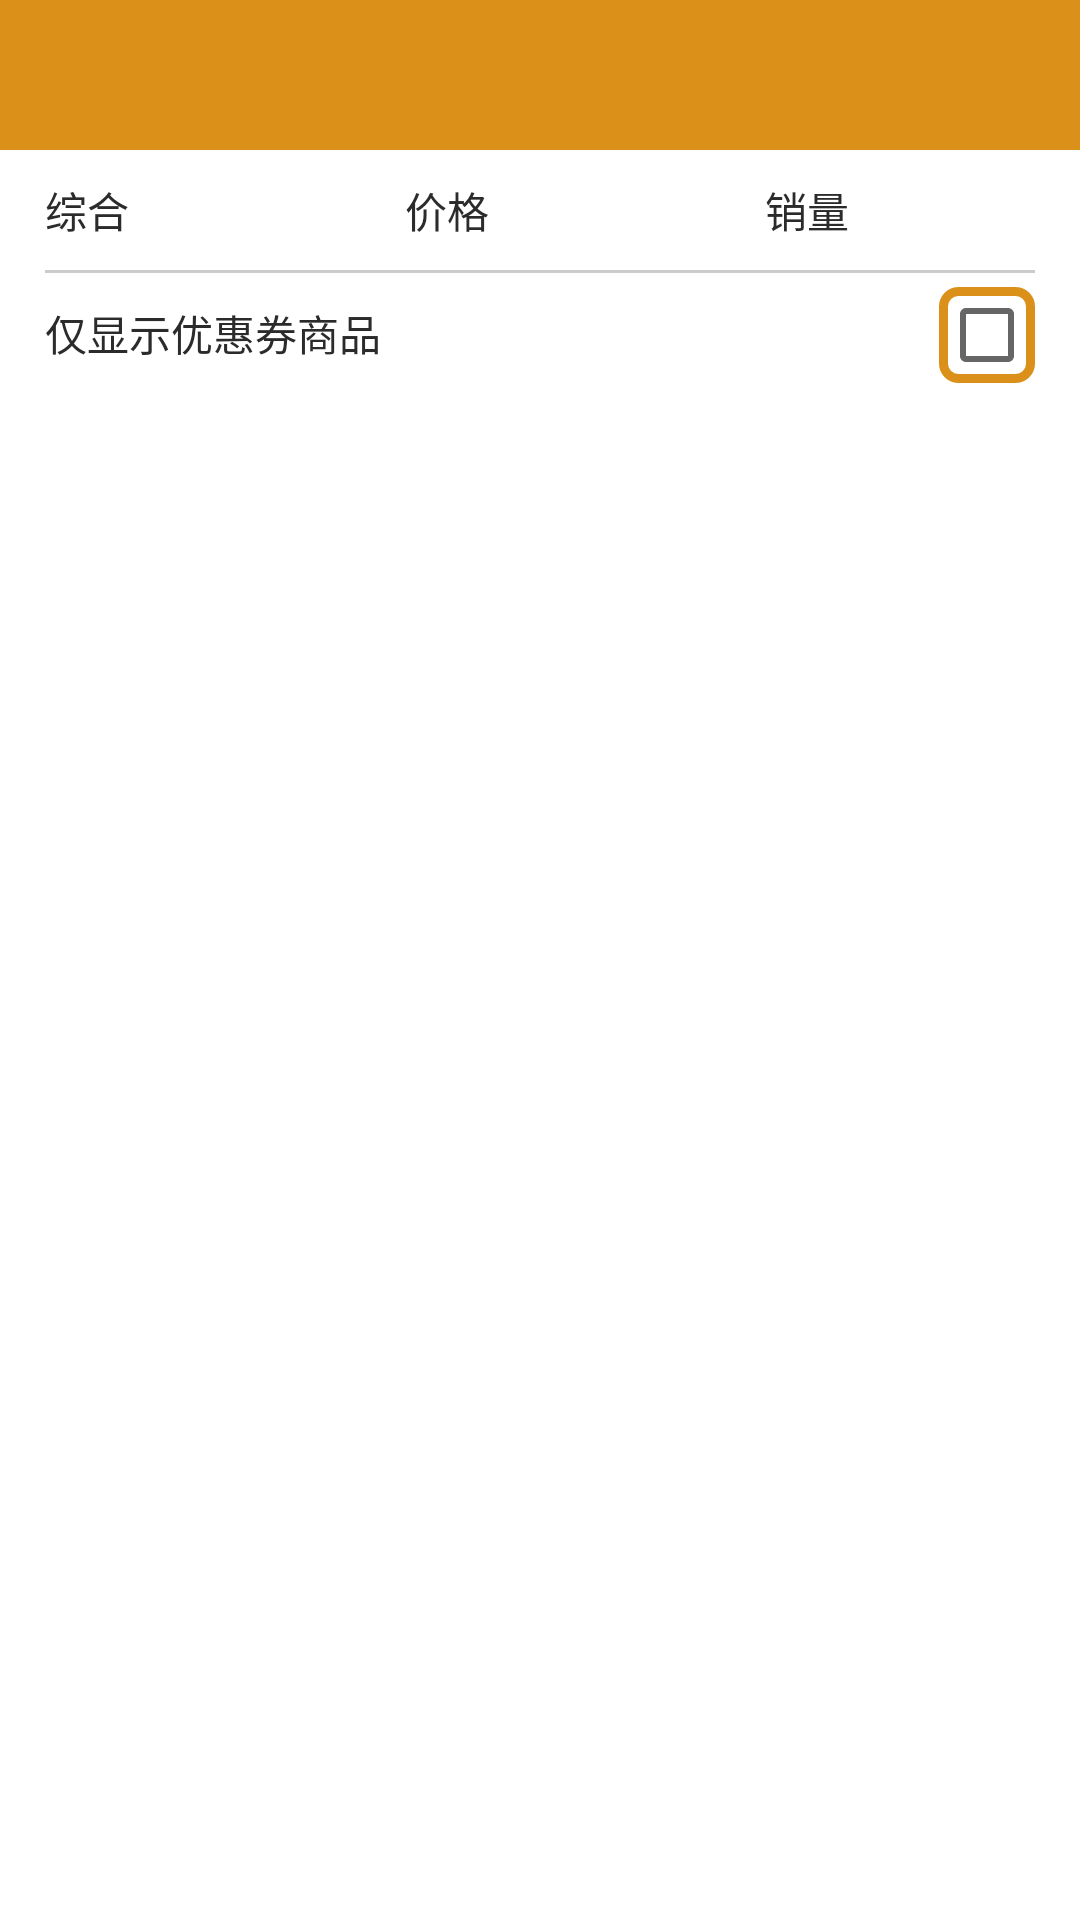

Named icons in this screenshot (1080×1920) and their centers, (x,y):
searchlist checkbox: (987,335)
